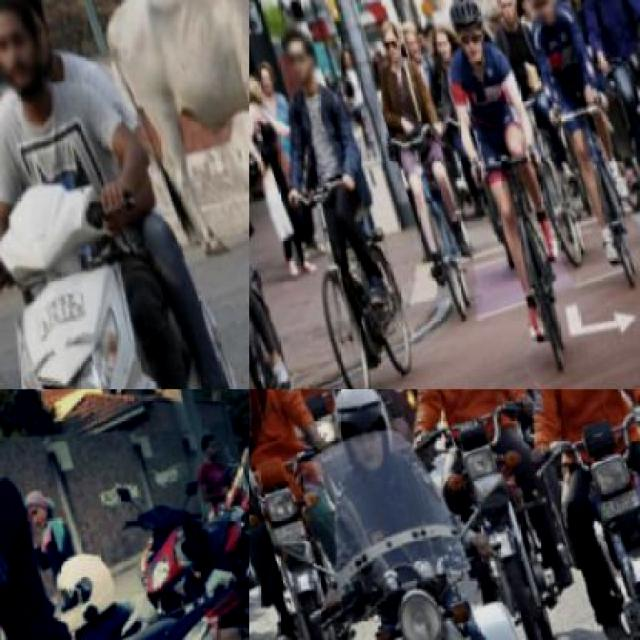With Helmet: (315, 389, 420, 488), (437, 0, 503, 69), (516, 0, 576, 31)
Without Helmet: (0, 0, 63, 98), (275, 12, 333, 91), (376, 12, 416, 68)
